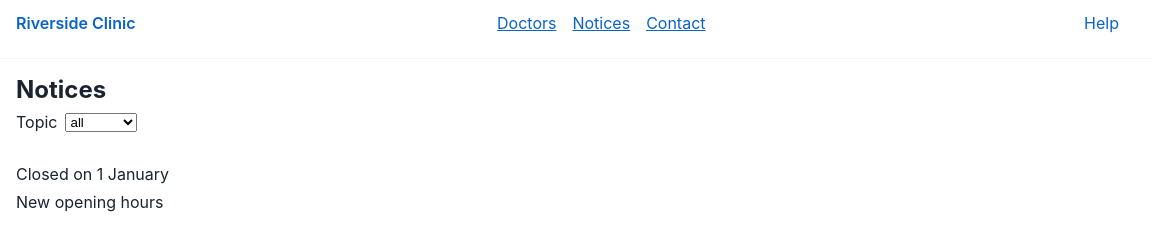
Test case: notices › narrows them by topic
The width and height of the screenshot is (1152, 229).
Expected: the list item "Closed on 1 January" is shown, [16,164,169,184]
Select "hours" in the dropdown labelled "Topic" at (102, 122), box [66,112,138,132]
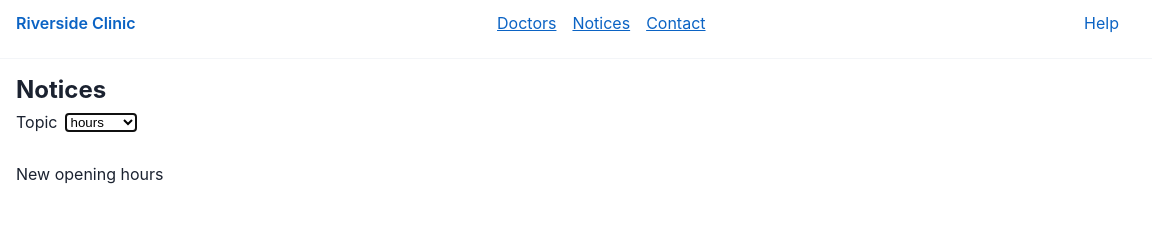
Expected: the list item "New opening hours" is shown, [16,164,164,184]
Expected: the list item "Closed on 1 January" is gone
